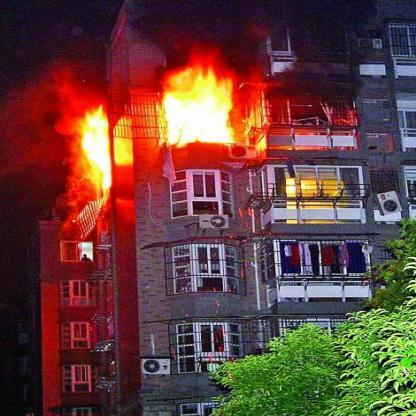fire: (161, 70, 237, 143), (63, 88, 110, 200), (186, 42, 221, 68), (112, 118, 131, 164)
